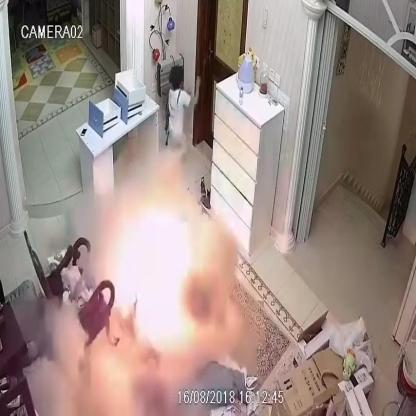fire: (108, 208, 200, 348)
